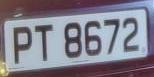2: (121, 14, 142, 57)
6: (82, 15, 105, 63)
7: (102, 15, 123, 60)
8: (62, 17, 85, 65)
P: (10, 24, 36, 69)
T: (32, 21, 58, 67)
